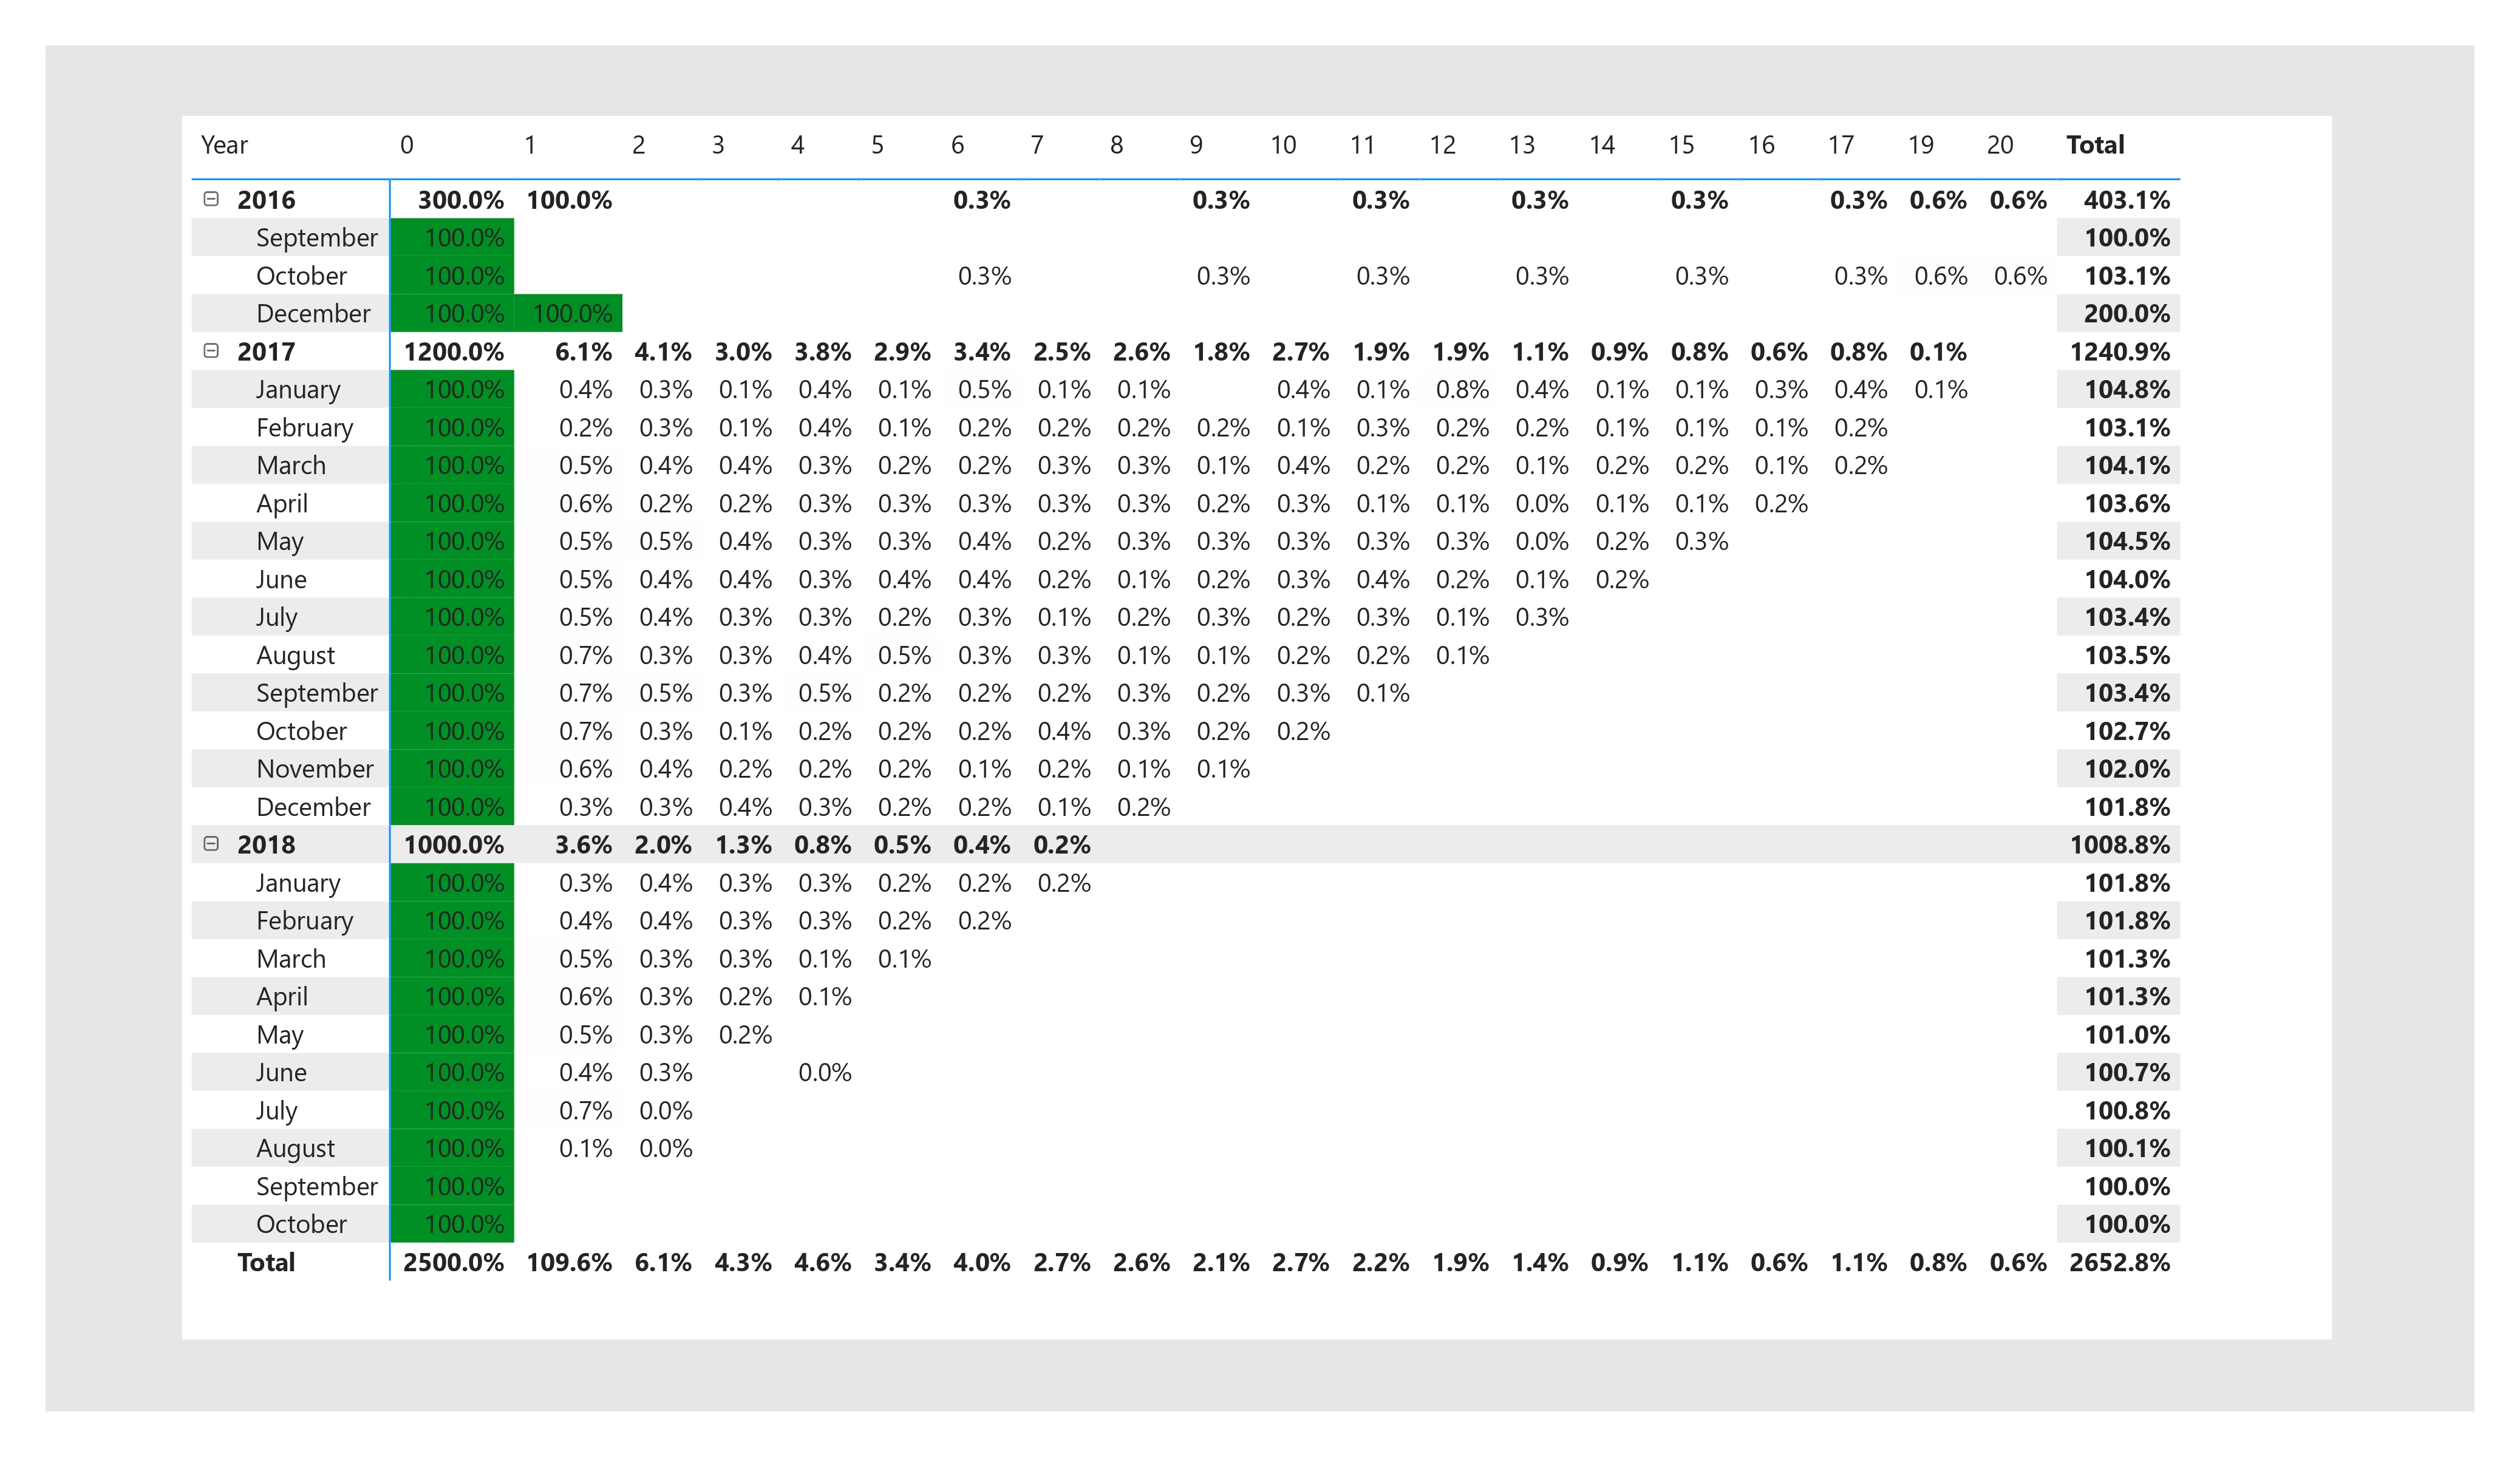

Layout of this report page (visuals, bound fields, positions):
{"tool":"powerbi","page":{"name":"Deep Cohort Analysis","canvas":[1280,720],"ordinal":2},"visuals":[{"type":"pivotTable","fields":{"Rows":["analytics v_cohort_retention.cohort_month.Variation.Date Hierarchy.Year","analytics v_cohort_retention.cohort_month.Variation.Date Hierarchy.Month"],"Columns":["analytics v_cohort_retention.period_number"],"Values":["Sum(analytics v_cohort_retention.retention_rate)"]},"box":[72.1,37.3,1133.2,644.4],"z":0}]}

Visuals, with their boxes on the page's 1280x720 design canvas (x1, y1, x2, y2). These are canvas units, not pixel positions in the 2520x1457 screenshot, which may show the page scaled, cropped or inside an application window:
pivotTable - analytics v_cohort_retention.cohort_month.Variation.Date Hierarchy.Year x analytics v_cohort_retention.cohort_month.Variation.Date Hierarchy.Month: BBox(72, 37, 1205, 682)
